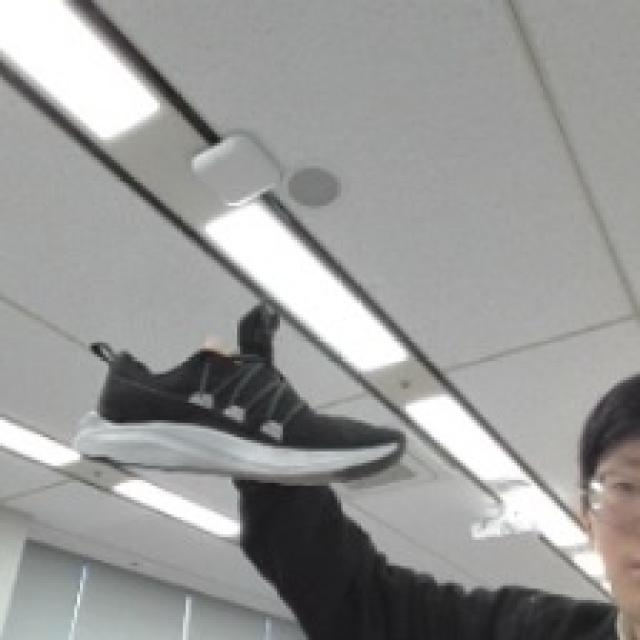shoes: (77, 294, 407, 483)
